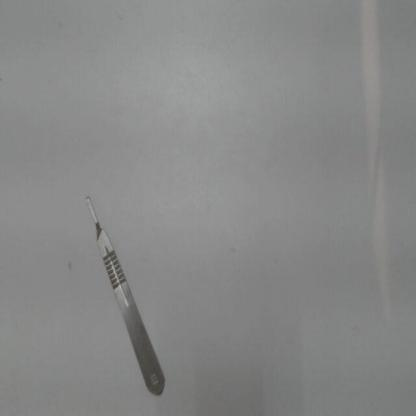No.3 BP Handle: (74, 180, 174, 406)
